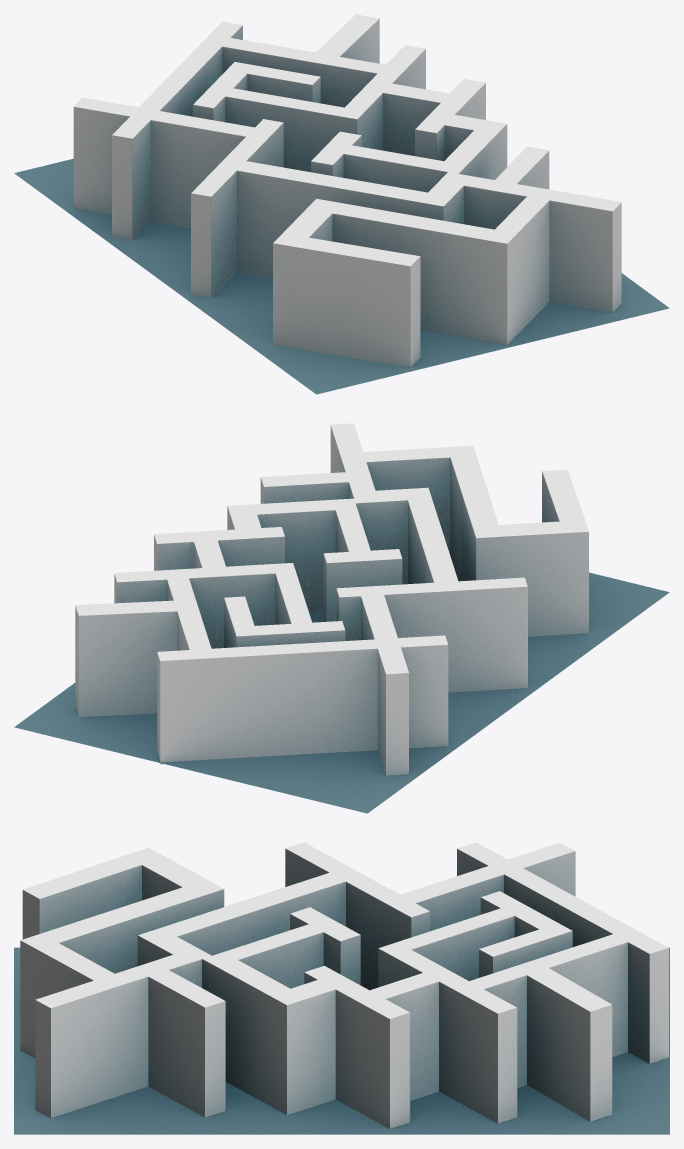
Rendered from labirinto_sem.glb.
The picture shows the model from 3 angles, top to bottom: view 1: azimuth 30°, elevation 25°; view 2: azimuth 150°, elevation 25°; view 3: azimuth 270°, elevation 25°; orthographic projection. The views are drawn at different scales.
Parts seen in each view (by area): view 1: labirinto; view 2: labirinto; view 3: labirinto.
Boxes of the visible parts, x1,y1,x2,y2 form: labirinto: (14, 14, 669, 394); labirinto: (14, 423, 669, 813); labirinto: (14, 842, 669, 1134).
Size of the model in its own units: 8.26 by 2.31 by 12.25.
1 material, 1 textured.
